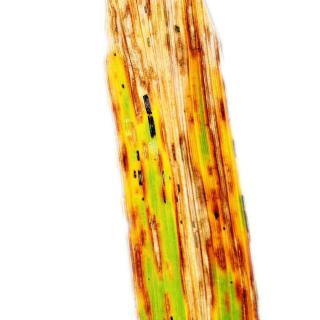Bercak-Cokelat-Sempit: (183, 5, 259, 319), (120, 201, 152, 317), (117, 138, 142, 190), (161, 291, 173, 320)
